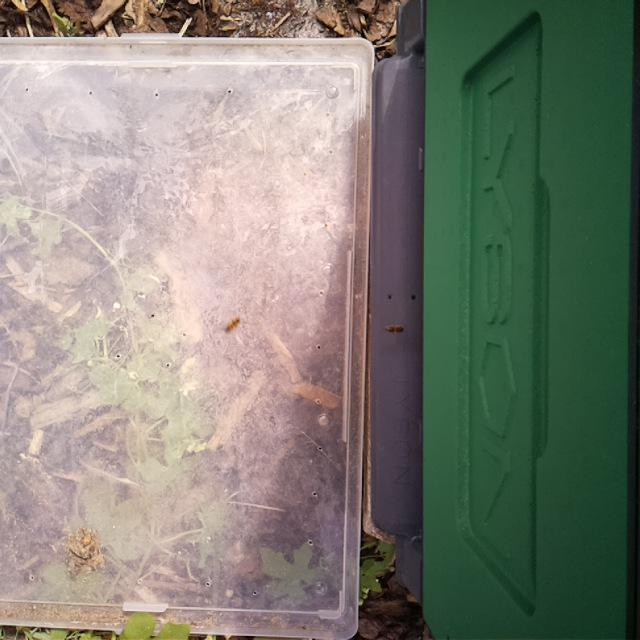worker-bee: (221, 315, 246, 336), (383, 322, 408, 339)
